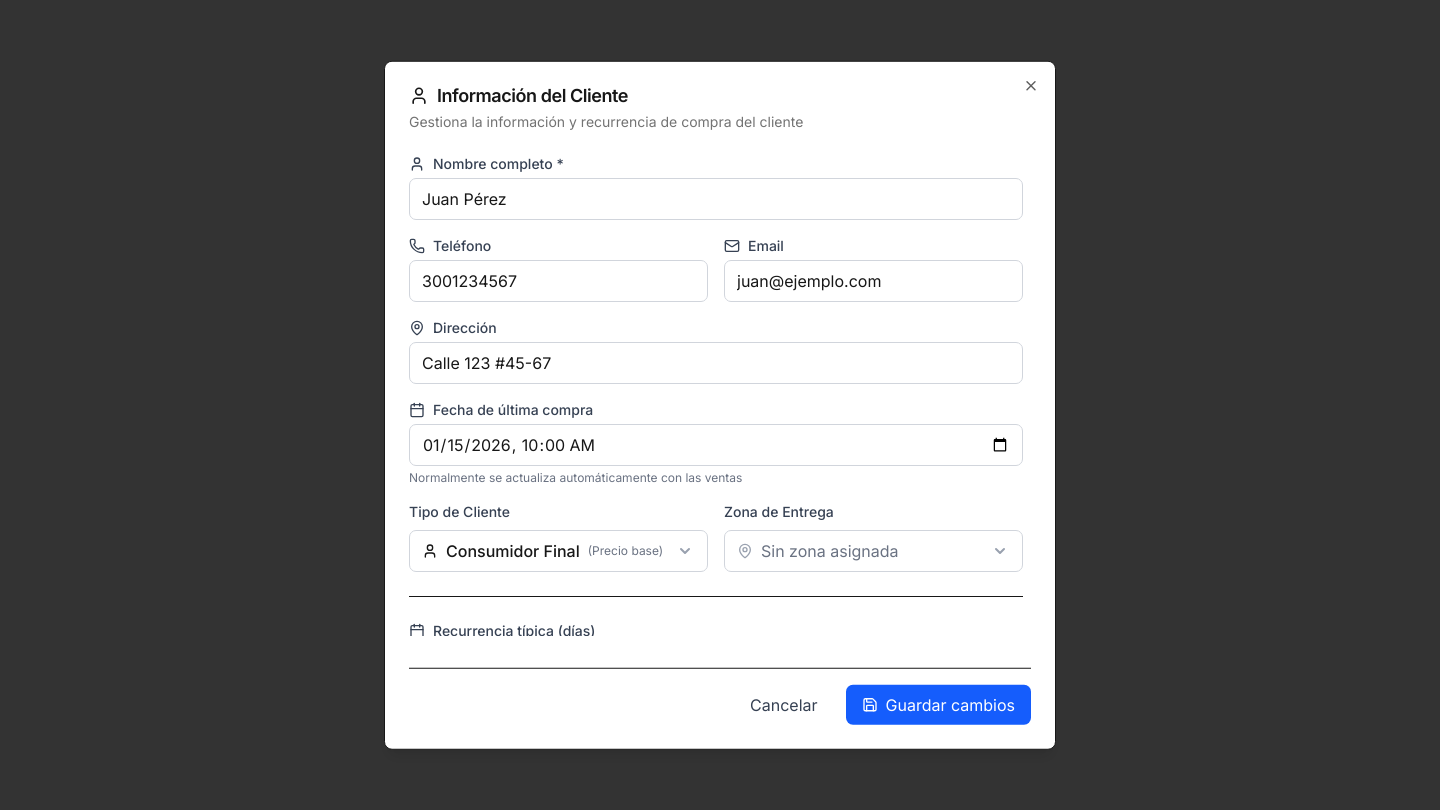
Scenario: CustomerModal › Save Functionality › should show error if name is empty
Clear the field showing "Juan Pérez" below "Nombre completo *" at (716, 199), box [409,178,1023,220]
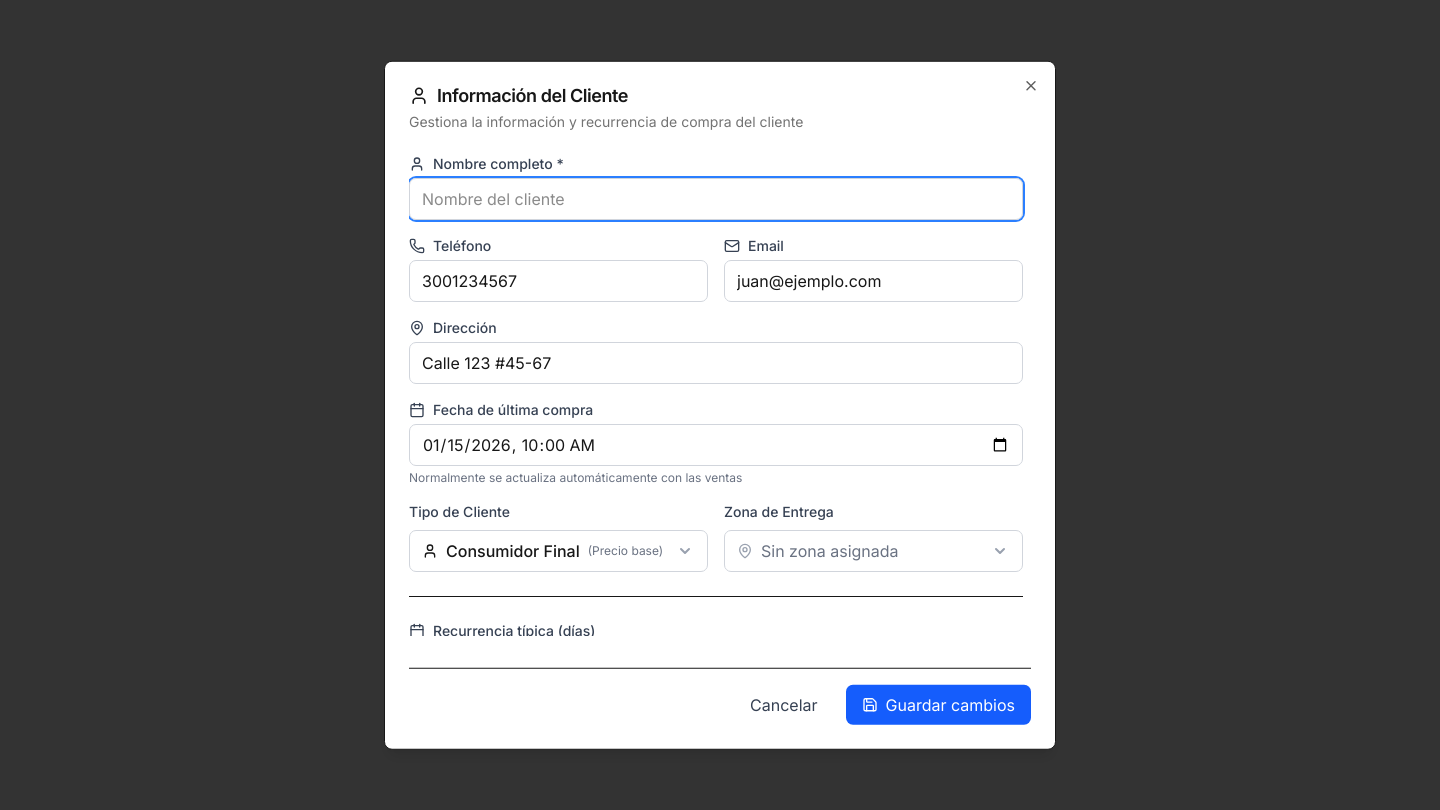
Click the button "Guardar cambios" at (938, 704), box [846,684,1031,724]
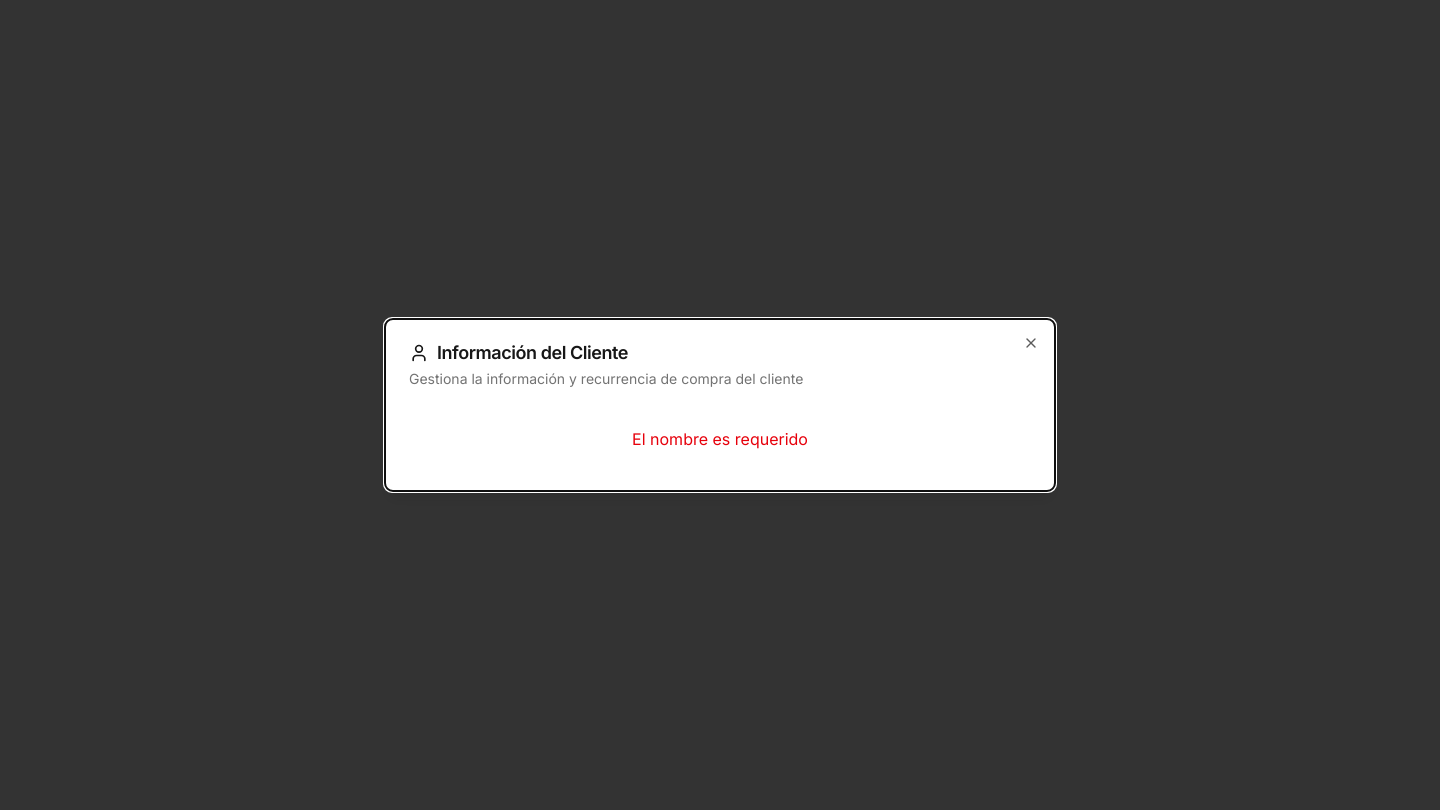
Expected: the text "El nombre es requerido" is shown, [632,429,808,449]
